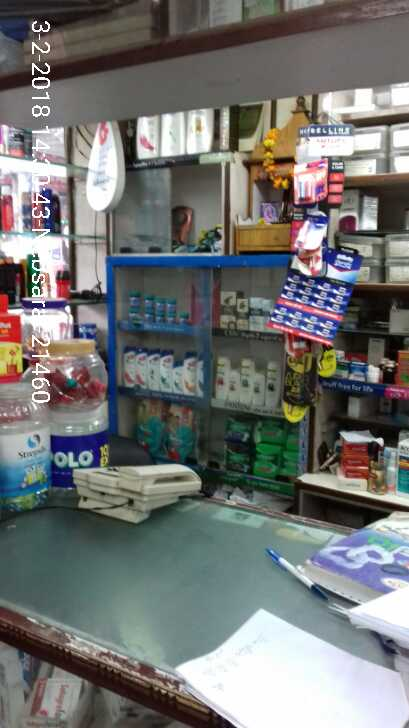vicks: (123, 289, 193, 328)
